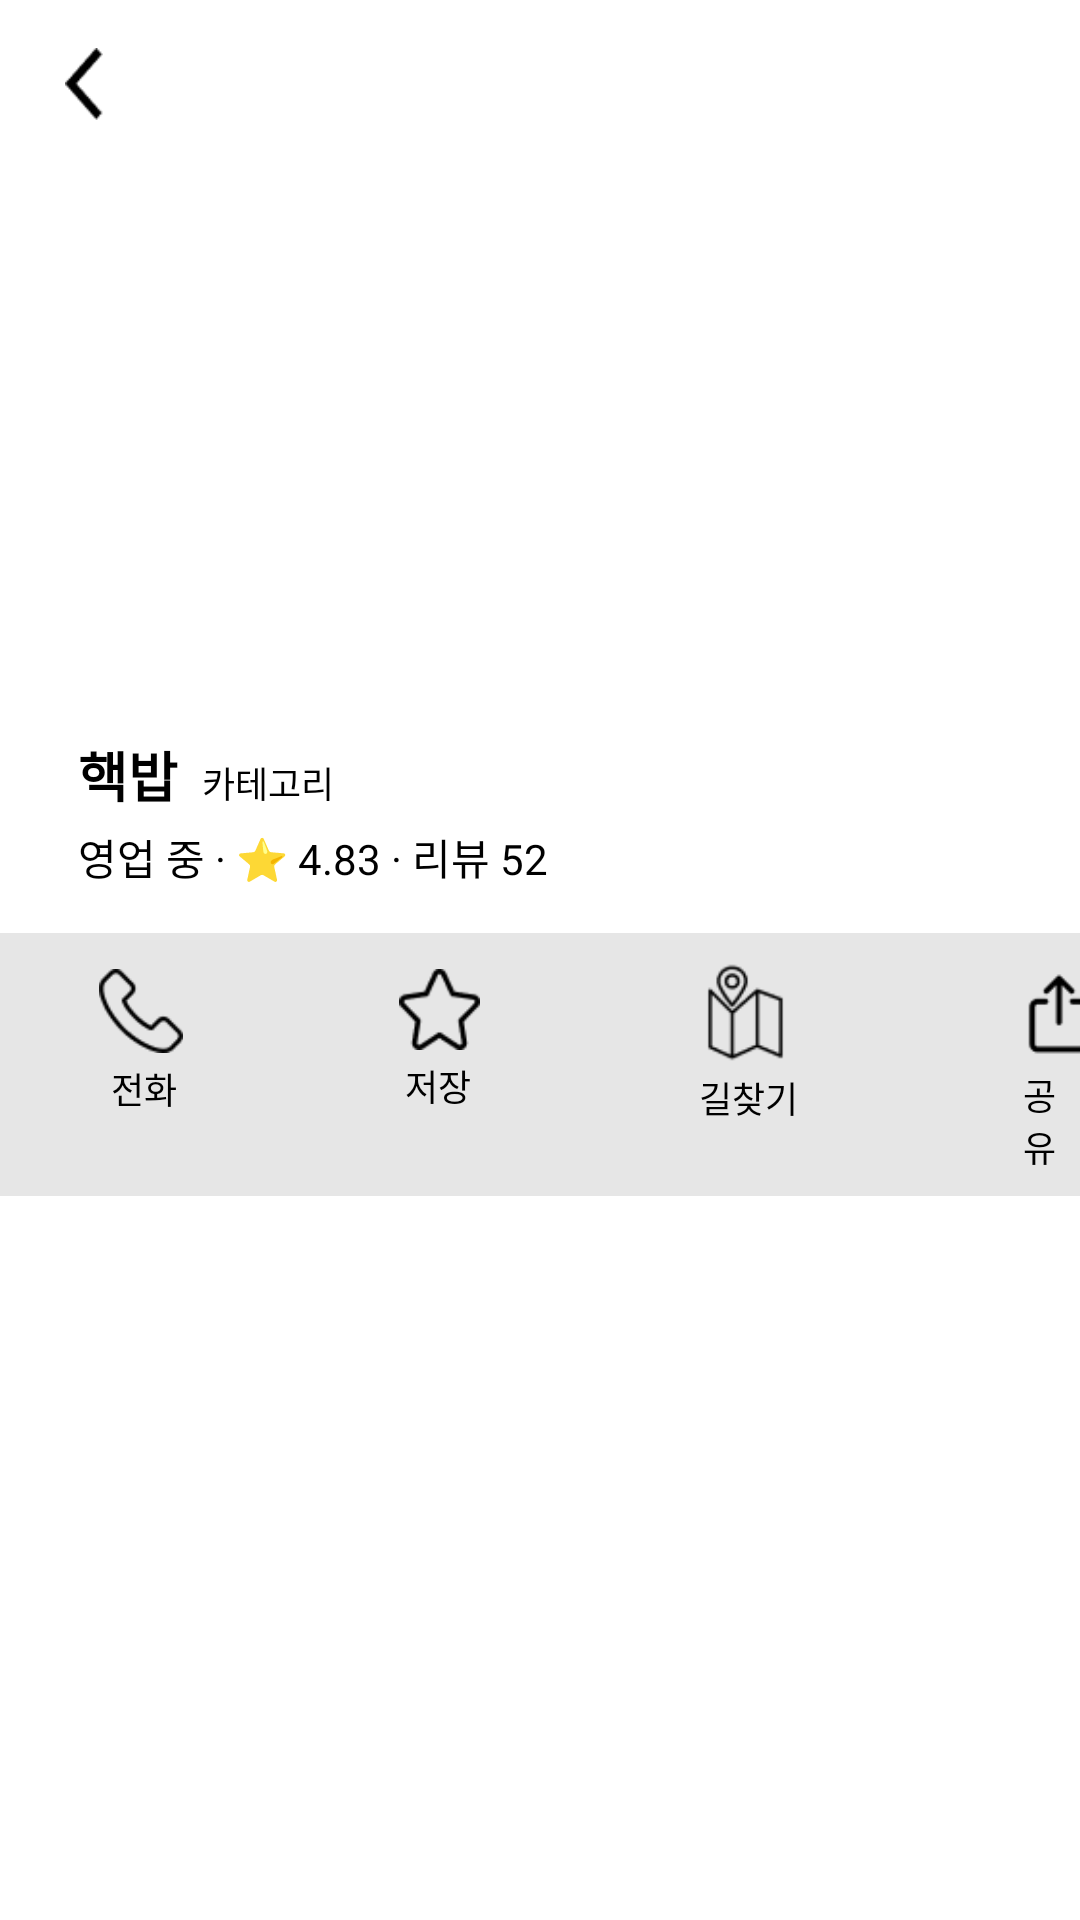

Named icons in this screenshot (1080×1920) and their bounding boxes, [x1, y1, x2, y2]:
back: [65, 48, 103, 120]
